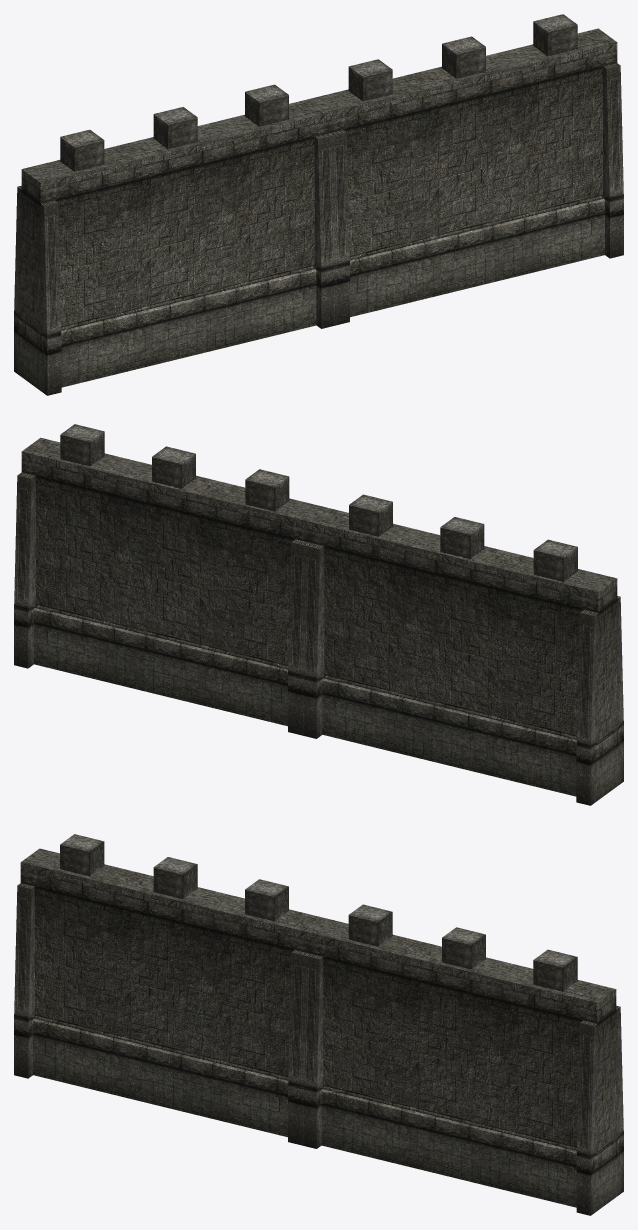
File: ep-bigdam-03.glb
3 views of the same model, one above another, from view 1: azimuth 30°, elevation 25°; view 2: azimuth 150°, elevation 25°; view 3: azimuth 330°, elevation 25° (orthographic).
Parts seen in each view (by area): view 1: ep-bigdam-03; view 2: ep-bigdam-03; view 3: ep-bigdam-03.
Boxes of the visible parts, <box> form: ep-bigdam-03: <box>14,14,623,395</box>; ep-bigdam-03: <box>14,424,623,805</box>; ep-bigdam-03: <box>14,834,623,1215</box>.
Size of the model in its own units: 20 by 7.71 by 2.
Materials: 1 (1 with a texture image).
